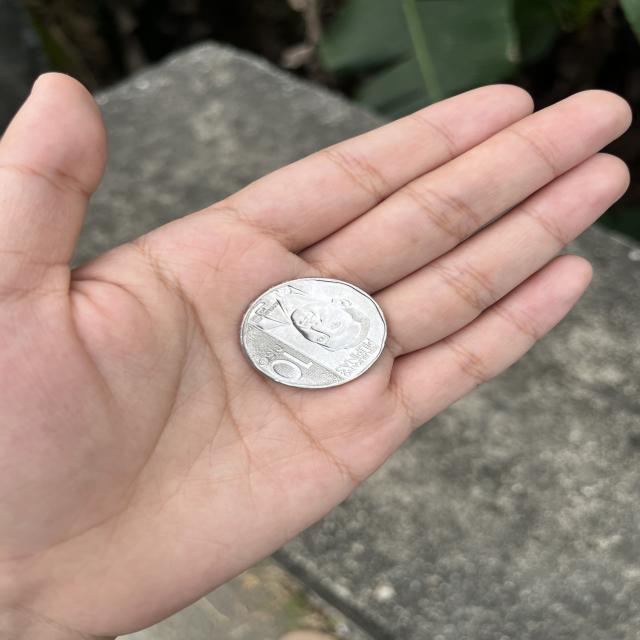10_New_Front: (251, 335, 317, 388)
